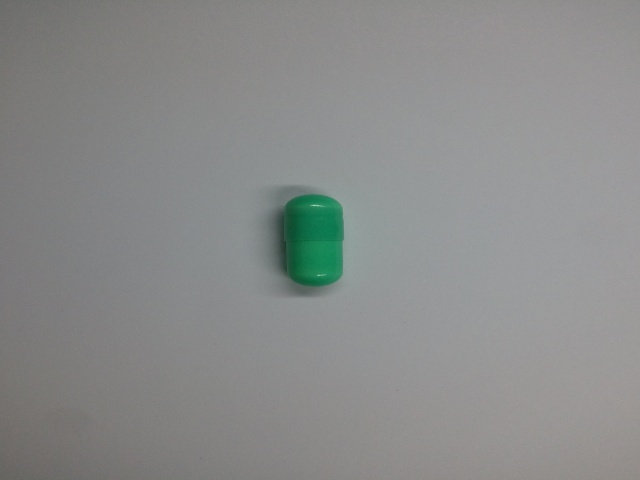capsule: (280, 192, 347, 285)
